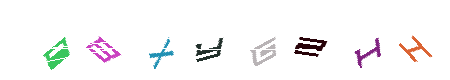0: (17, 0, 97, 80)
2: (227, 0, 307, 80)
8: (79, 0, 159, 80)
G: (215, 0, 295, 80)
H: (315, 0, 395, 80)
I: (369, 0, 449, 80)
X: (121, 0, 201, 80)
Y: (184, 0, 264, 80)
